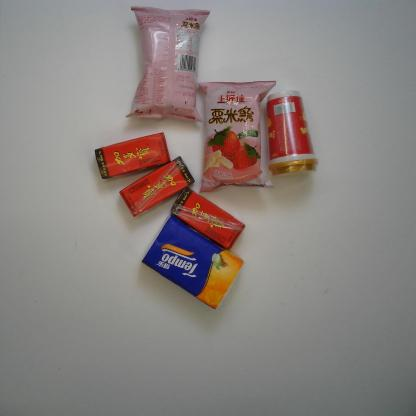Drink: (170, 186, 246, 251), (118, 156, 196, 218), (94, 132, 172, 180)
Instant Drink: (265, 90, 319, 181)
Puffed Food: (124, 5, 212, 124), (197, 80, 277, 194)
Tissue: (140, 213, 245, 310)
